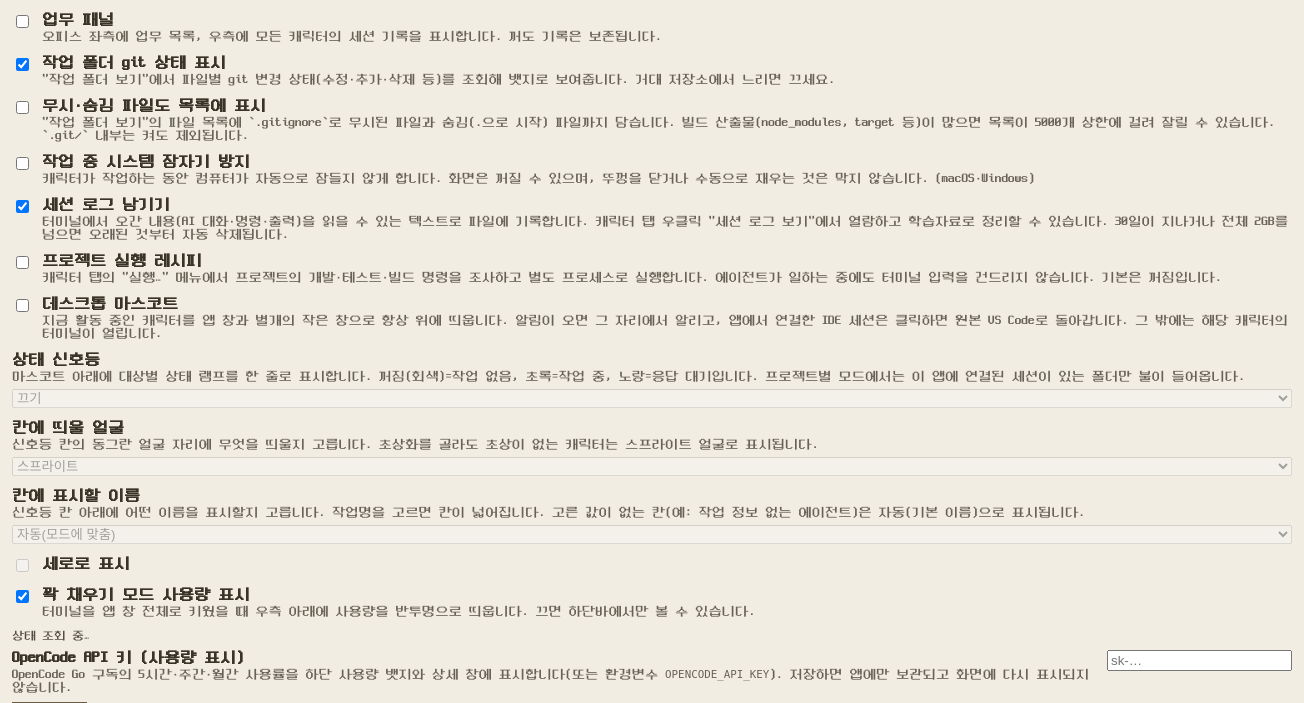
Scenario: 업무 패널 UI › 설정 토글로 켜며 접기·펼치기와 키보드 폭 조절을 기억한다
Click the text "업무 패널". click: (78, 20)
box: x1=42 y1=12 x2=114 y2=28
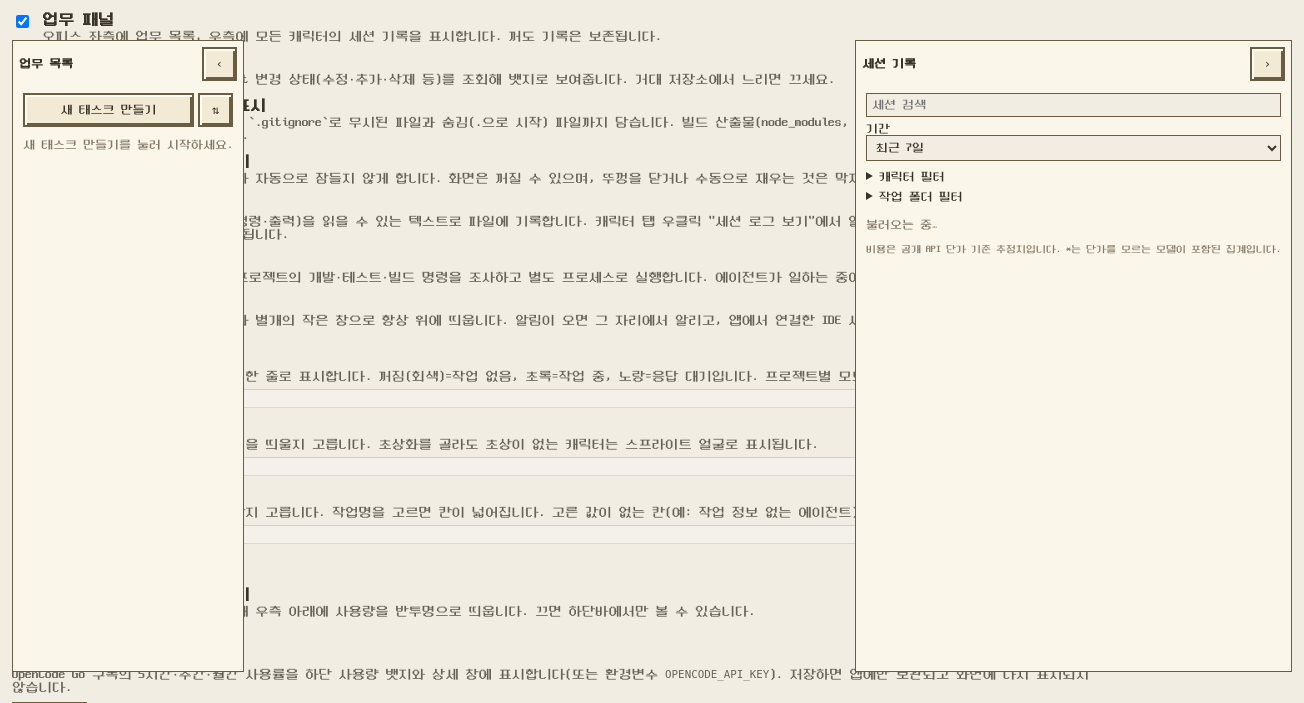
Press ArrowRight in the element named "패널 폭 조절" next to "새 태스크 만들기를 눌러 시작하세요.", box x1=240 y1=41 x2=246 y2=671
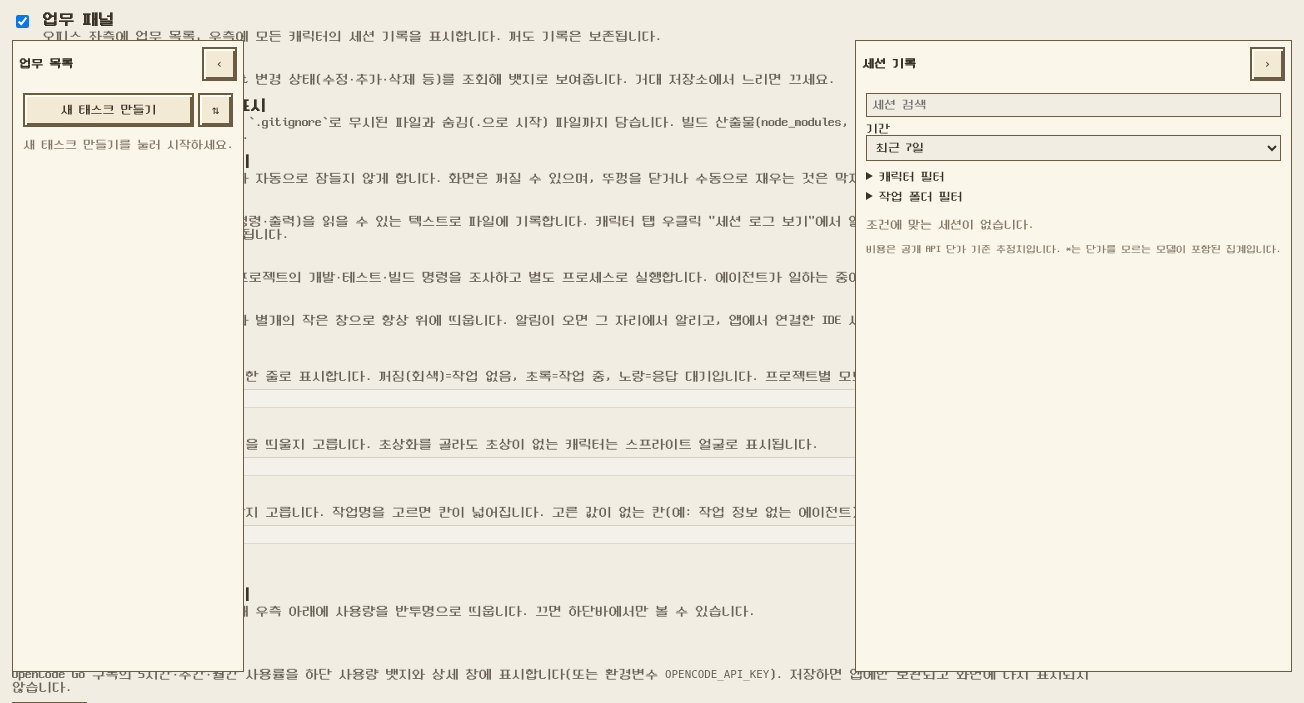
Click the button named "패널 접기". click: (219, 64)
box: x1=202 y1=47 x2=237 y2=81
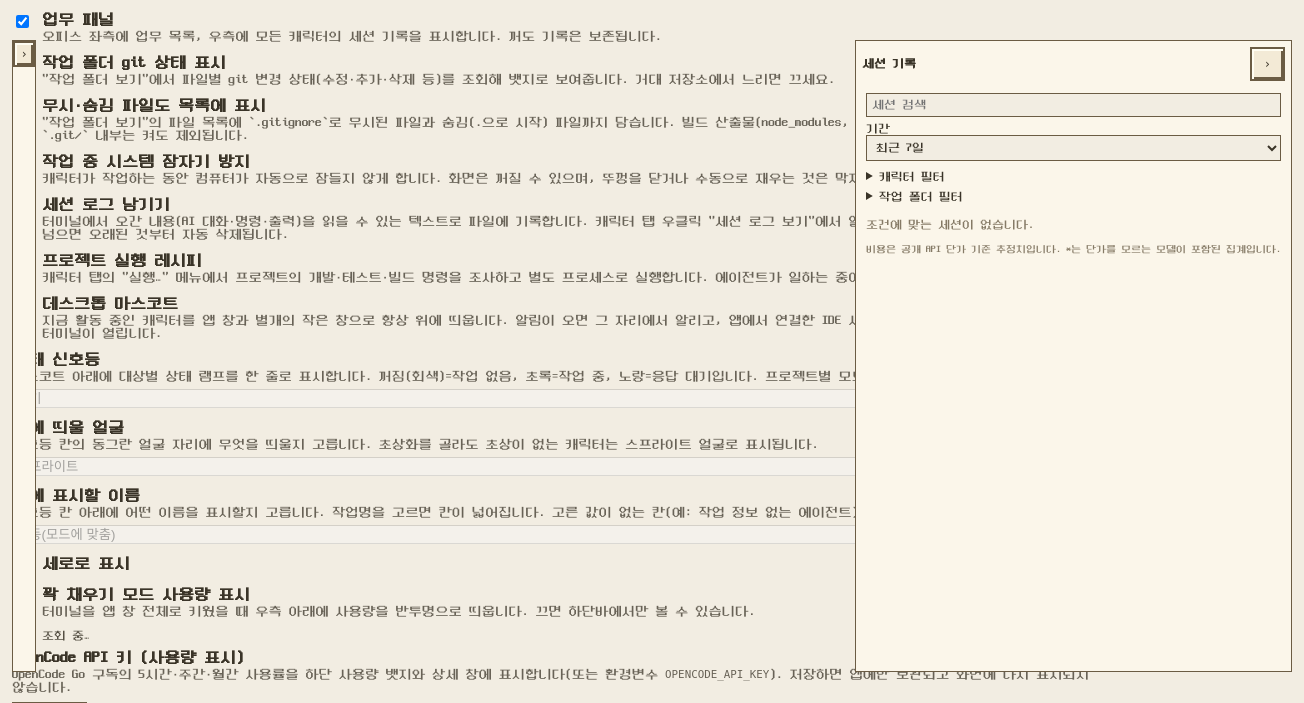
expect the button "새 태스크 만들기" is gone: met
Click the button named "패널 펼치기". click: (24, 54)
box: x1=13 y1=41 x2=35 y2=67
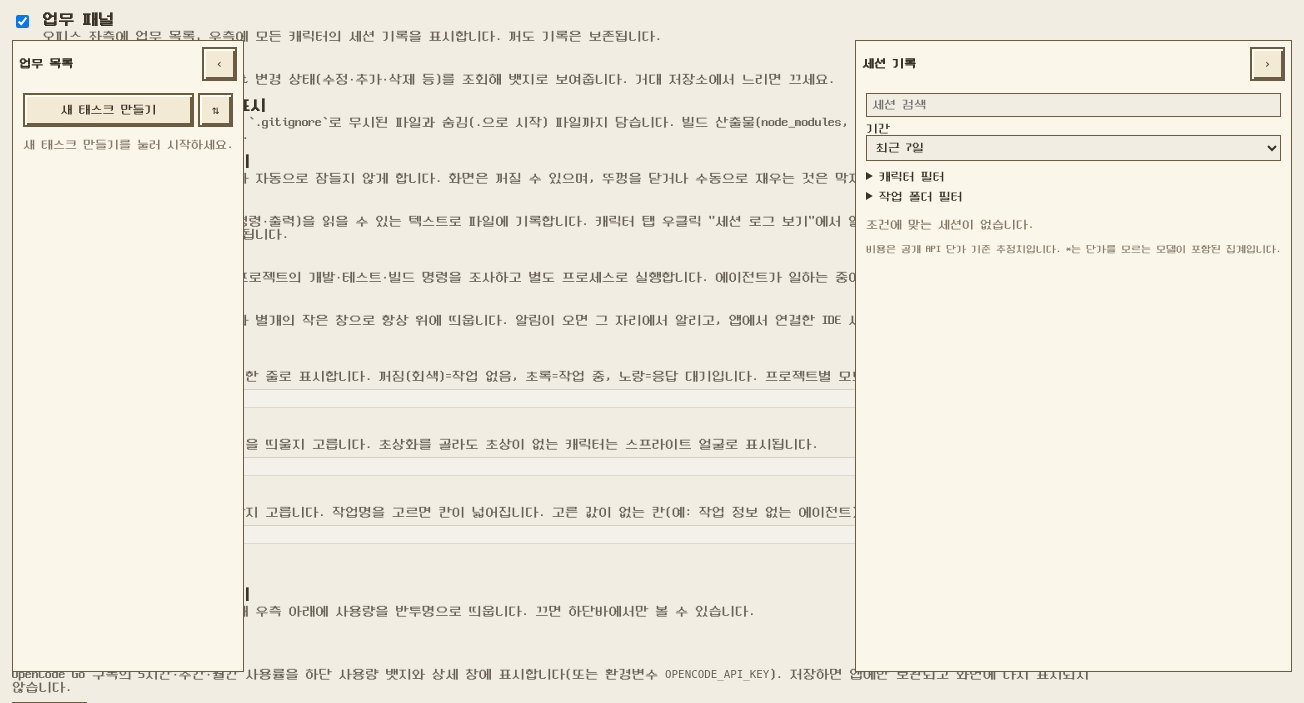
expect the button "새 태스크 만들기" is shown: met, box x1=23 y1=93 x2=194 y2=127
